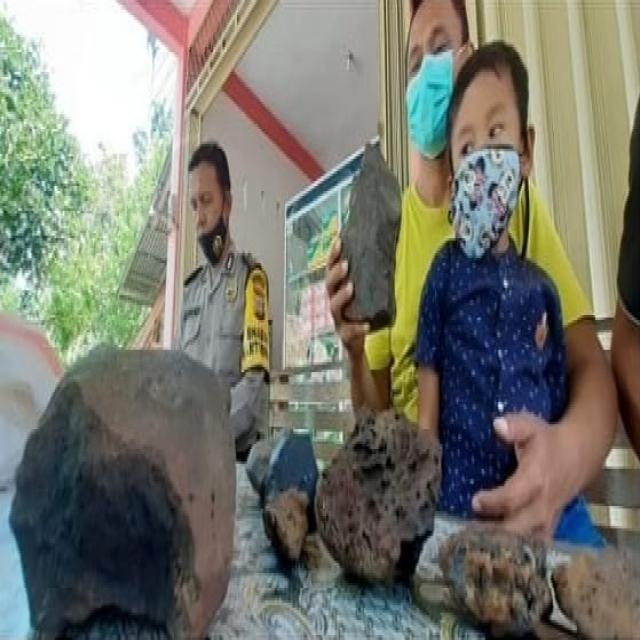Pecahan Agregat: (8, 264, 260, 640), (316, 394, 442, 592), (333, 140, 407, 345), (446, 505, 554, 635), (558, 530, 638, 634), (277, 403, 326, 564)
